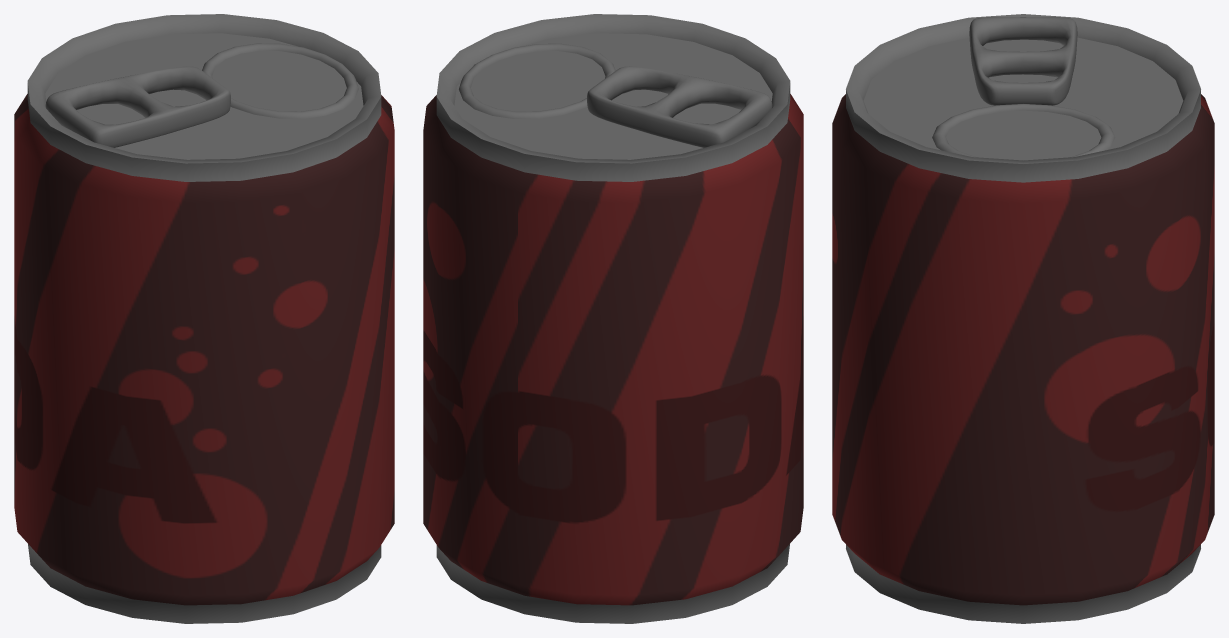
Rendered from SodaCan.fbx.
The picture shows the model from 3 angles, left to right: view 1: azimuth 30°, elevation 25°; view 2: azimuth 150°, elevation 25°; view 3: azimuth 270°, elevation 25°; orthographic projection.
Parts seen in each view (by area): view 1: pCylinder2; view 2: pCylinder2; view 3: pCylinder2.
Part boxes in pixels (x1,y1,x2,y2): pCylinder2: (14,14,394,623); pCylinder2: (423,14,803,623); pCylinder2: (832,14,1214,623).
Size of the model in its own units: 2.22 by 3.01 by 2.22.
